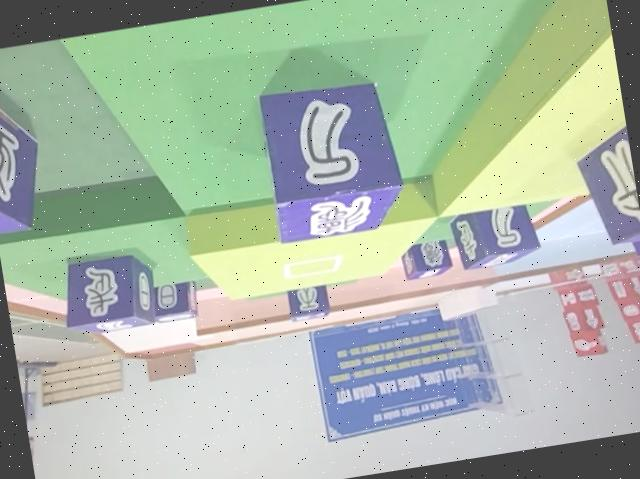R2 Fake Blue: (251, 72, 413, 249), (567, 104, 640, 244), (0, 56, 53, 238), (57, 248, 160, 336), (446, 200, 541, 272), (397, 235, 453, 280), (144, 277, 197, 322), (282, 283, 330, 322)
